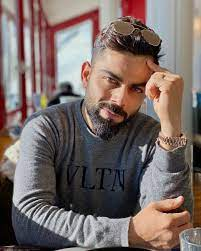b.y: (93, 102, 124, 142)
